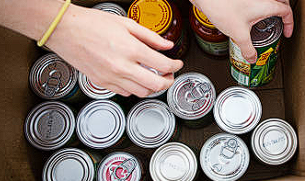Intacto: (77, 98, 129, 150), (250, 119, 301, 168), (200, 132, 251, 181), (27, 54, 76, 103), (26, 99, 75, 147), (167, 73, 218, 119), (214, 87, 262, 135), (127, 99, 171, 145), (42, 149, 97, 181), (150, 145, 196, 181), (241, 16, 283, 49), (98, 152, 142, 181)
